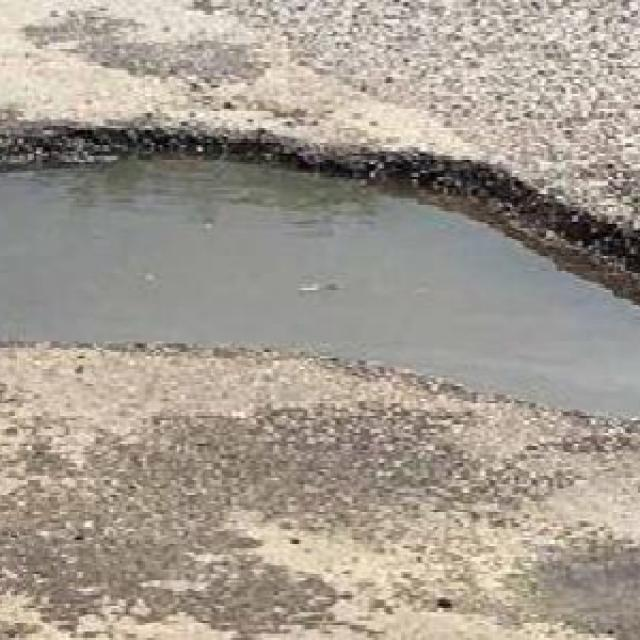pothole: (0, 113, 640, 439)
